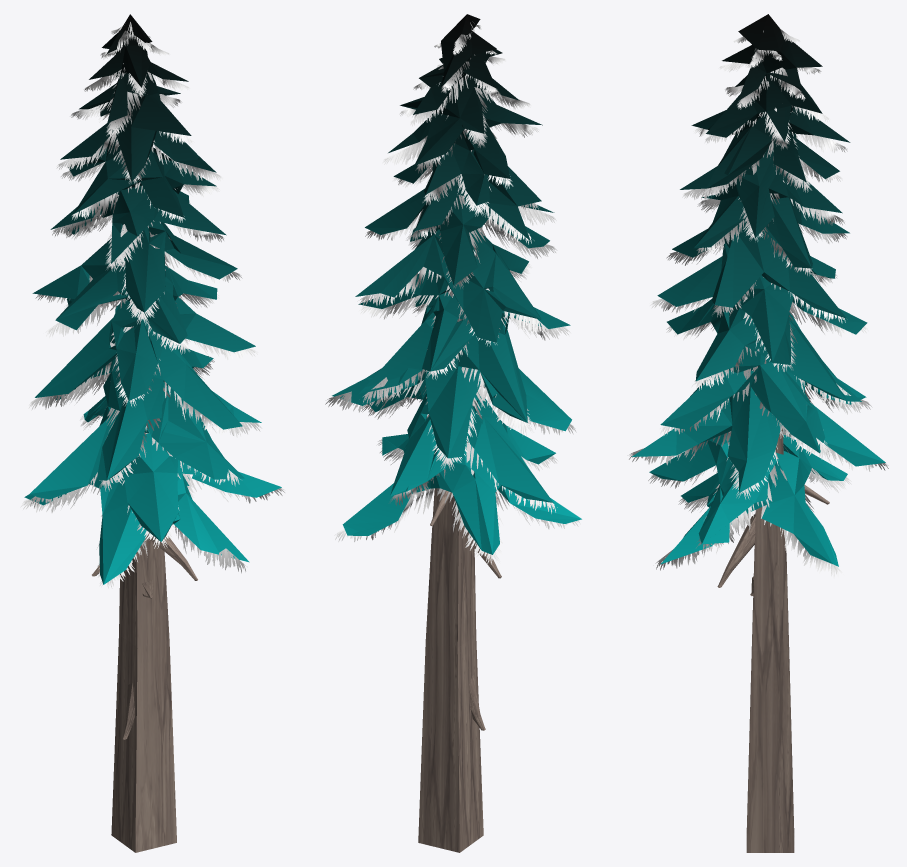
The model's file is PineTree04b.fbx.
3 renders of one model, left to right at view 1: azimuth 30°, elevation 25°; view 2: azimuth 150°, elevation 25°; view 3: azimuth 270°, elevation 25°, orthographic.
Visible parts, largest first — view 1: PineTree04b_LOD0.001; view 2: PineTree04b_LOD0.001; view 3: PineTree04b_LOD0.001.
Boxes of the visible parts, <box> form: PineTree04b_LOD0.001: <box>20,14,284,852</box>; PineTree04b_LOD0.001: <box>325,14,581,852</box>; PineTree04b_LOD0.001: <box>629,14,888,852</box>.
Size of what is drawn, in the model's own units: 397 by 1324 by 405.
